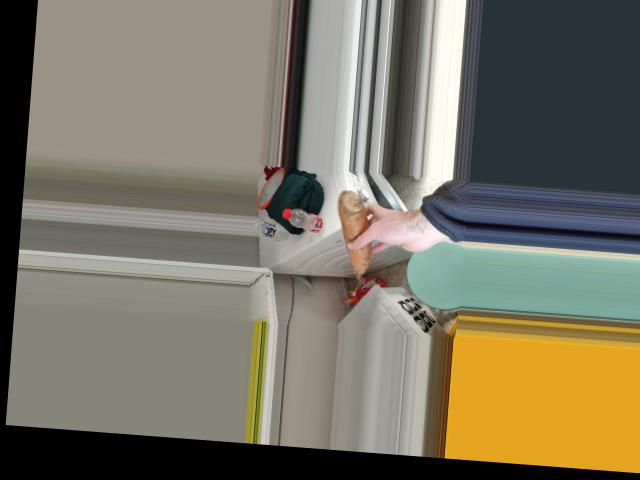sweet_potato: (337, 190, 370, 283)
